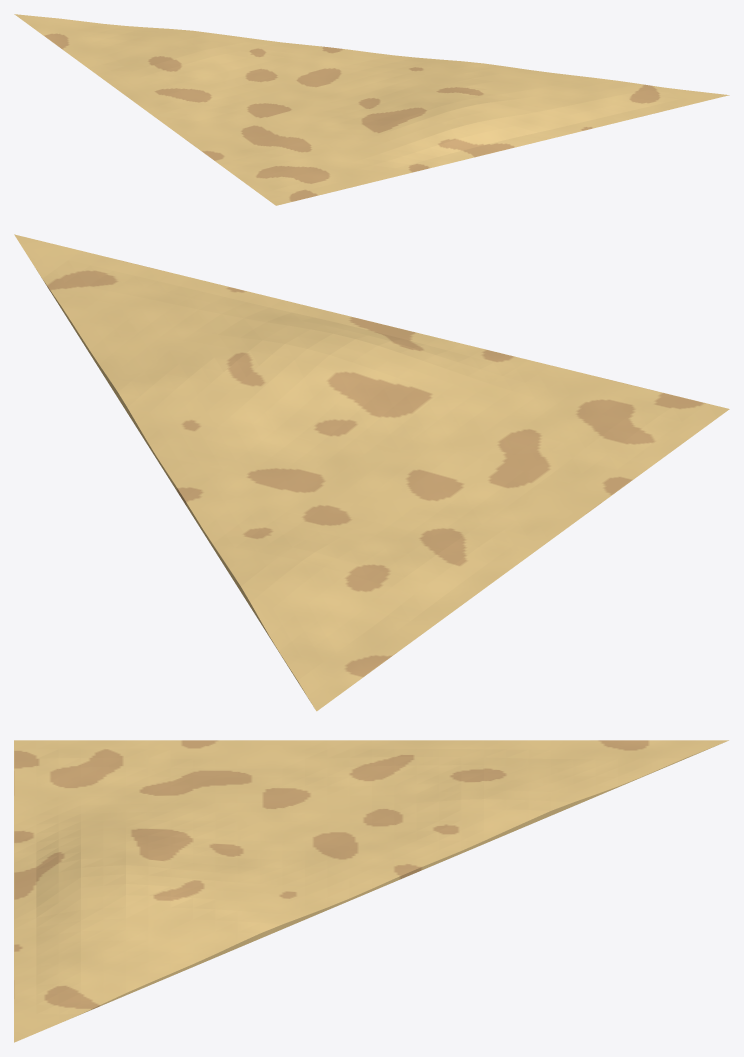
Rendered from Desert_Flat_12_NW.obj.
3 renders of one model, top to bottom at view 1: azimuth 30°, elevation 25°; view 2: azimuth 150°, elevation 25°; view 3: azimuth 270°, elevation 25°, orthographic. The views are drawn at different scales.
Bounding box in the file's own units: 10 × 0.2661 × 10.
1 material, 1 textured.
